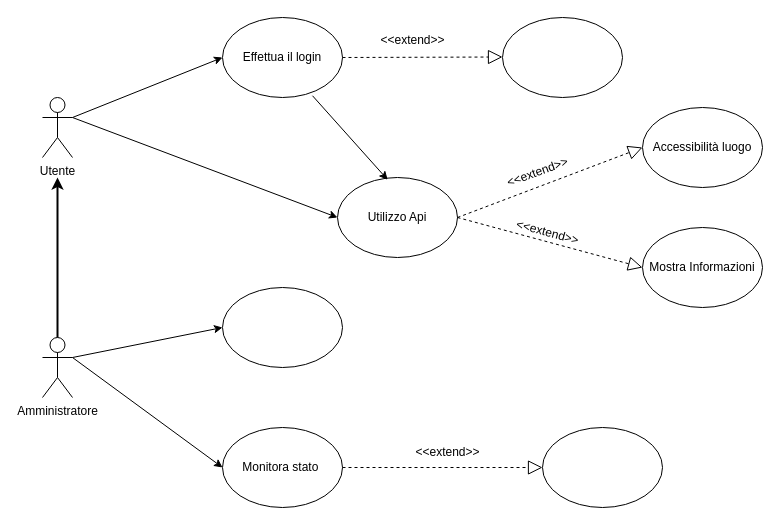
Image size: 780x525. Some labels were removed from this diagram. The shapes that lost their labels are listed below. From the top down, each one's centre as x and y in pixels, then its label:
At [562,57]: "Registrazione".
At [282,327]: "Configura sistema".
At [602,467]: "aggiornamento".
